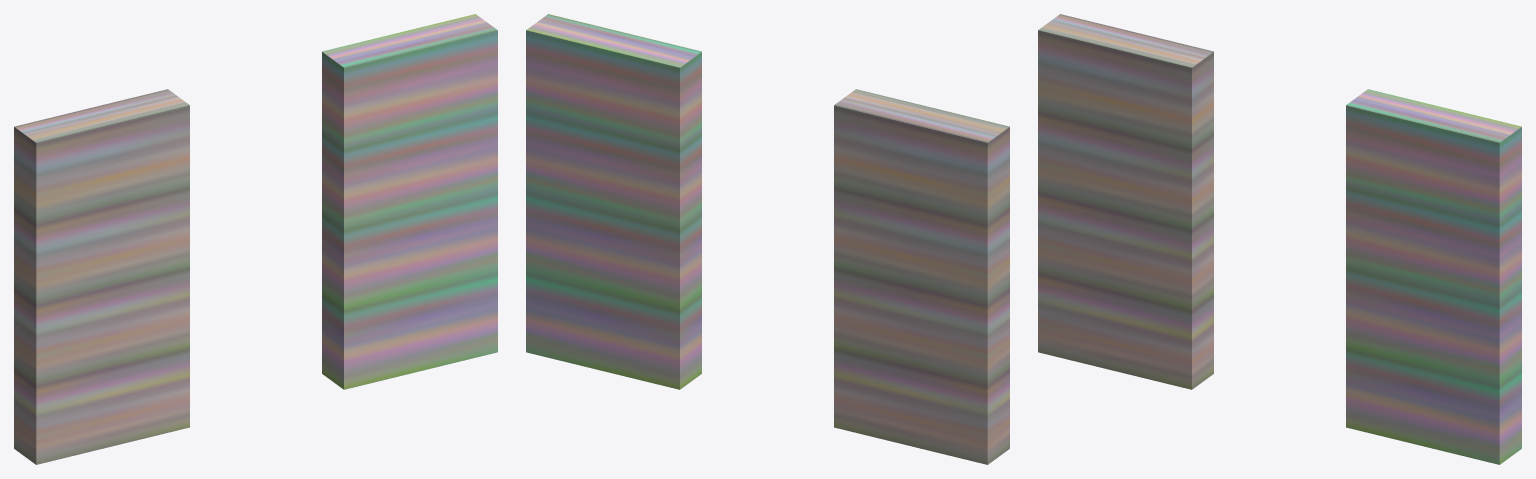
The model's file is construct_eyes_neutral.obj.
3 views of the same model, side by side, from view 1: azimuth 30°, elevation 25°; view 2: azimuth 150°, elevation 25°; view 3: azimuth 330°, elevation 25° (orthographic).
Visible parts, largest first — view 1: EYES_NEUTRAL_Cube.020; view 2: EYES_NEUTRAL_Cube.020; view 3: EYES_NEUTRAL_Cube.020.
Part boxes in pixels (box(x1,y1,x2,y2)): EYES_NEUTRAL_Cube.020: box(14, 14, 497, 464); EYES_NEUTRAL_Cube.020: box(526, 14, 1009, 464); EYES_NEUTRAL_Cube.020: box(1038, 14, 1521, 464).
Bounding box in the file's own units: 0.1875 × 0.125 × 0.0156.
